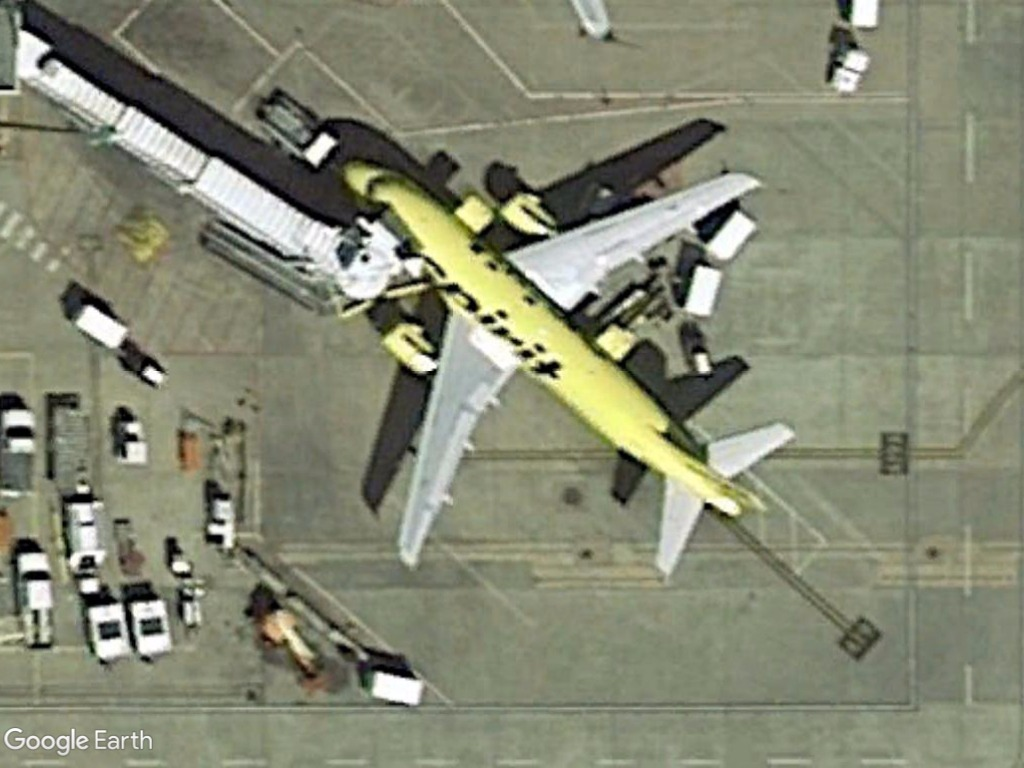airliner: (331, 155, 796, 583)
